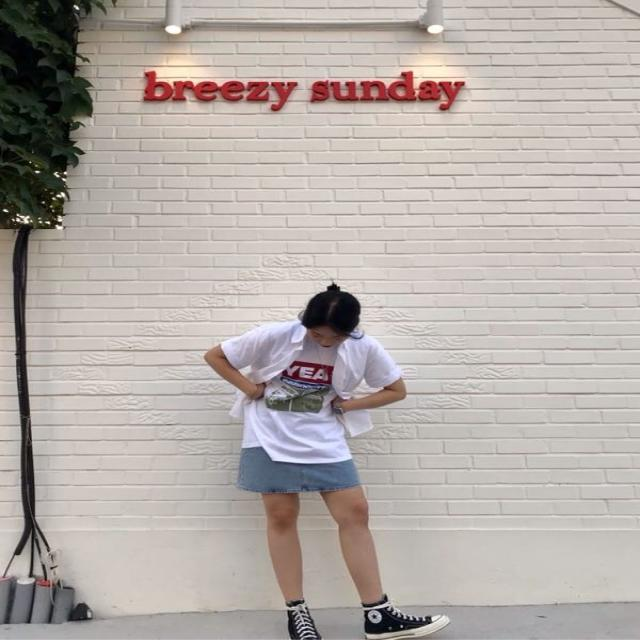shirt: (222, 311, 396, 439)
skirt: (236, 442, 359, 497)
